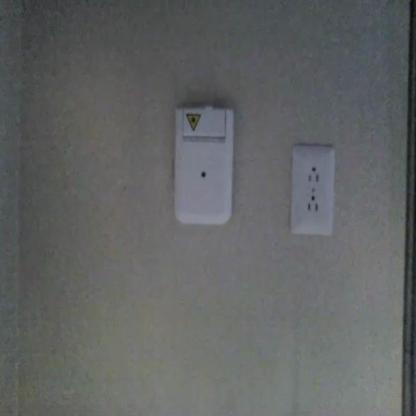OUTLET: (290, 147, 335, 237)
